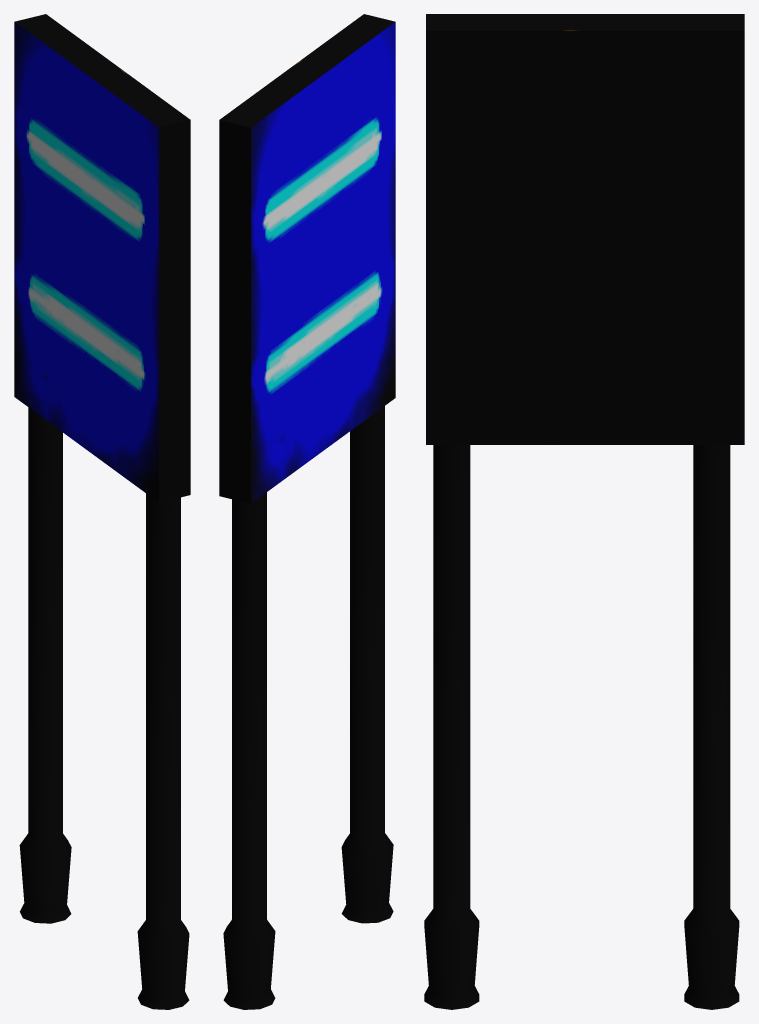
3 renders of one model, left to right at view 1: azimuth 30°, elevation 25°; view 2: azimuth 150°, elevation 25°; view 3: azimuth 270°, elevation 25°, orthographic. The views are drawn at different scales.
Visible parts, largest first — view 1: Cylinder002; view 2: Cylinder002; view 3: Cylinder002.
Boxes of the visible parts, x1,y1,x2,y2 form: Cylinder002: [14, 14, 190, 1009]; Cylinder002: [219, 14, 395, 1009]; Cylinder002: [424, 14, 744, 1009].
Bounding box in the file's own units: 1.42 × 26.53 × 7.89.
